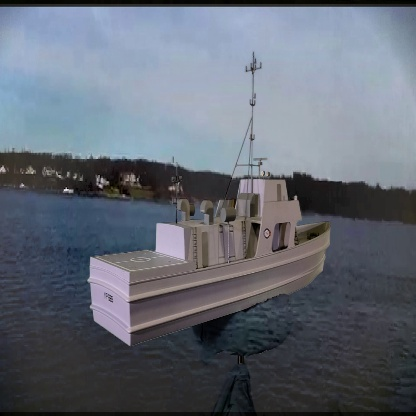YP689: (88, 48, 331, 350)
